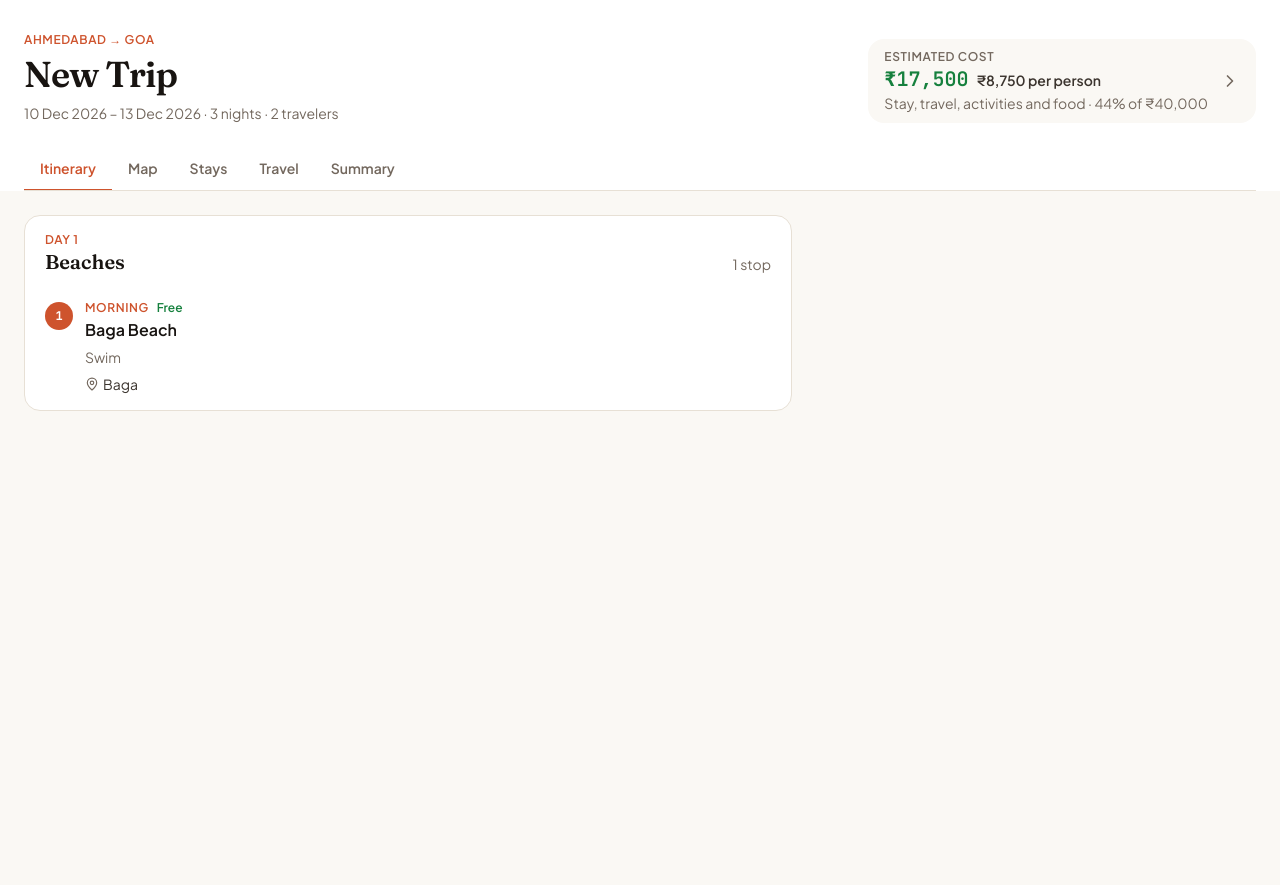
Test case: Travel panel › is the Travel tab of the trip page
Click the button "Travel" at (279, 169), box [244, 147, 315, 191]
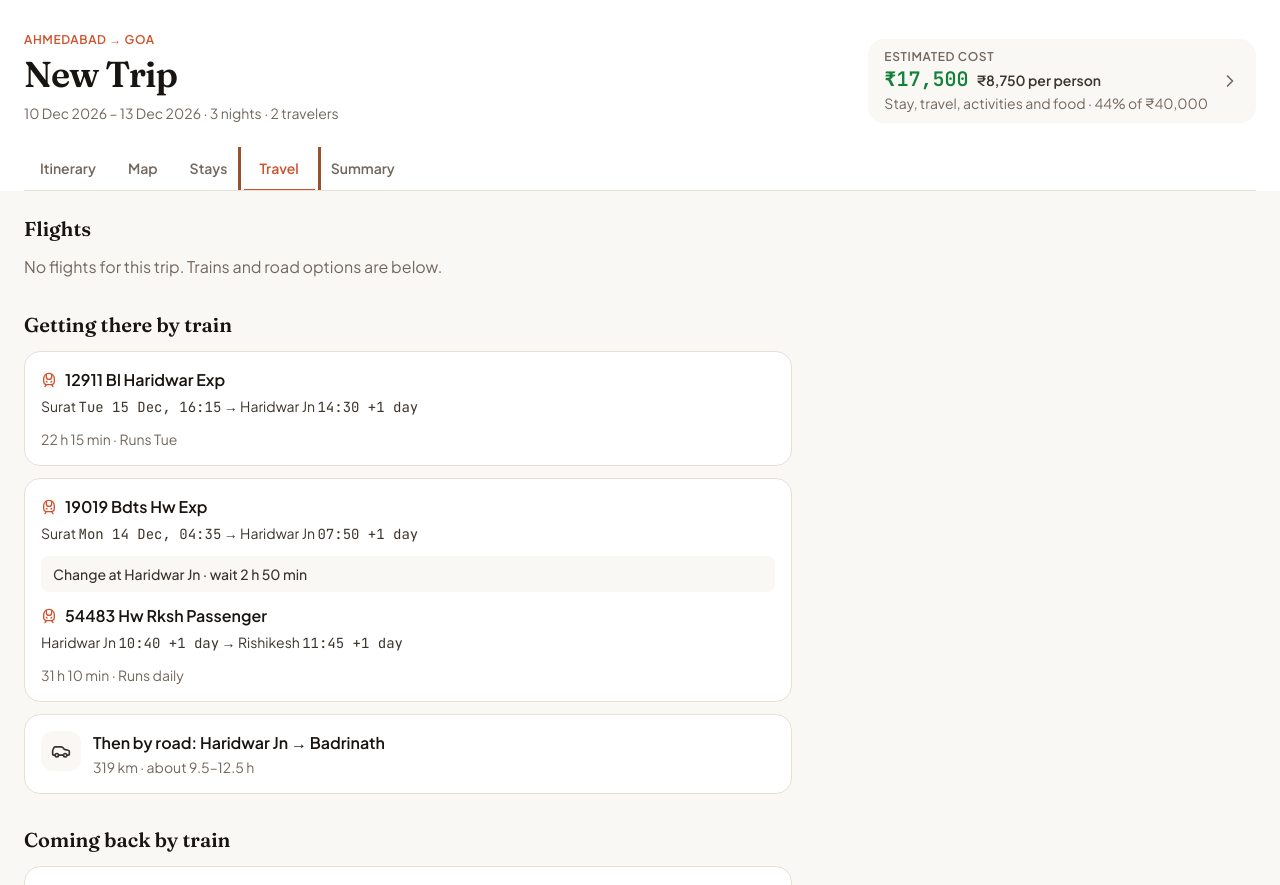
Check: the element "Getting there by train" is shown, box [24, 311, 792, 794]
